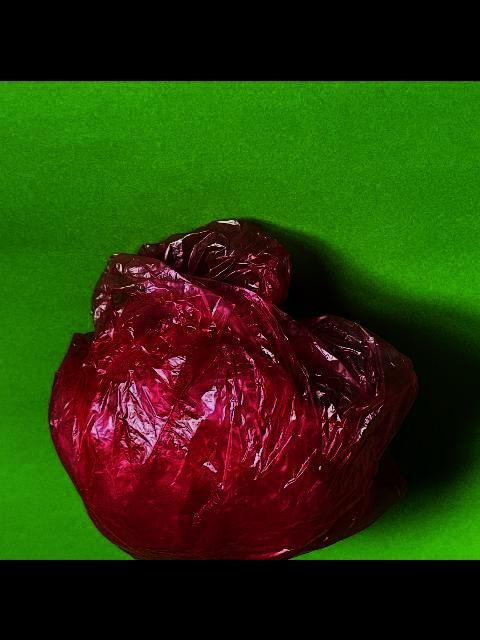plasticbag: (44, 215, 422, 560)
